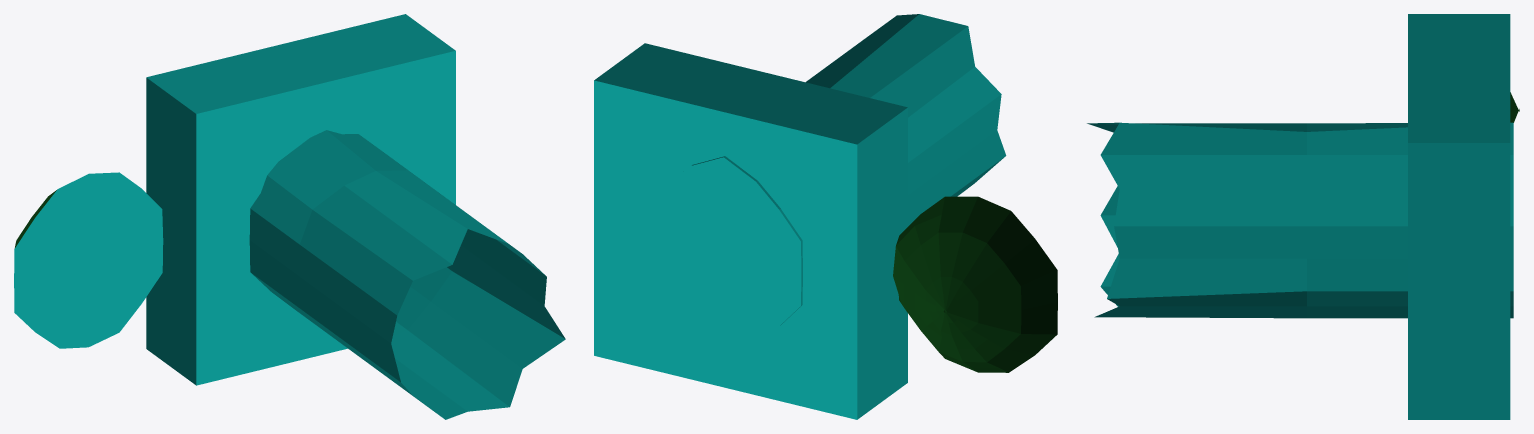
Rendered from stockpile3d.obj.
3 views of the same model, side by side, from view 1: azimuth 30°, elevation 25°; view 2: azimuth 150°, elevation 25°; view 3: azimuth 270°, elevation 25° (orthographic).
Parts seen in each view (by area): view 1: Cube, Cube.001, Cube.002; view 2: Cube, Cube.001, Cube.002; view 3: Cube.001, Cube.
Boxes of the visible parts, x1,y1,x2,y2 form: Cube: (146,14,455,385); Cube.001: (249,130,565,419); Cube.002: (14,172,163,348); Cube: (594,43,907,419); Cube.001: (646,14,1006,343); Cube.002: (893,196,1057,372); Cube.001: (1087,122,1513,318); Cube: (1408,14,1510,419).
Size of the model in its own units: 1.4 by 0.8552 by 1.21.
